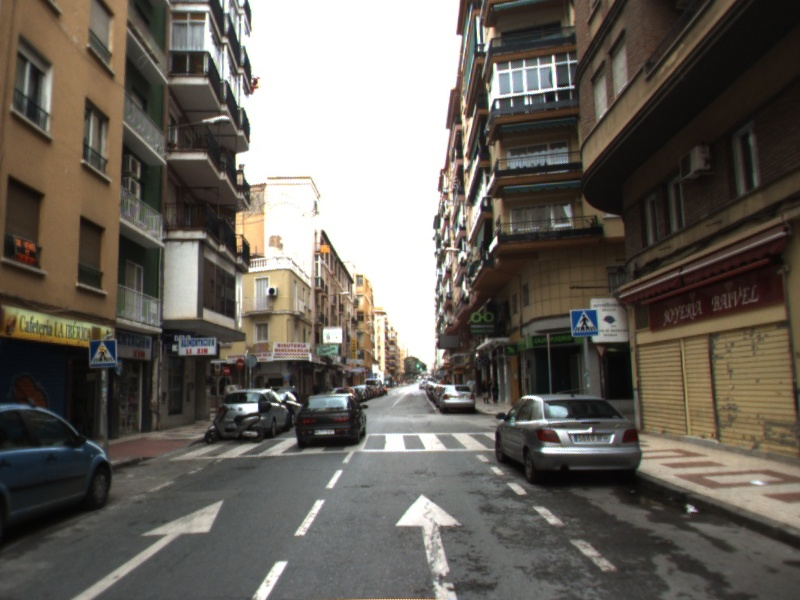STRAIGHT: (67, 495, 226, 600), (392, 489, 465, 600)
